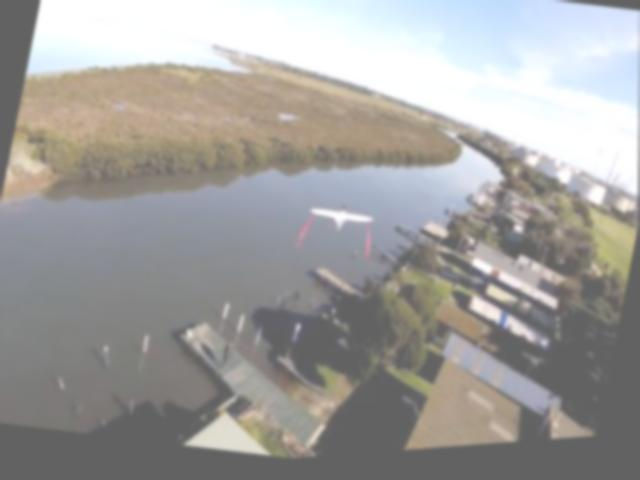uav: (303, 205, 378, 244)
